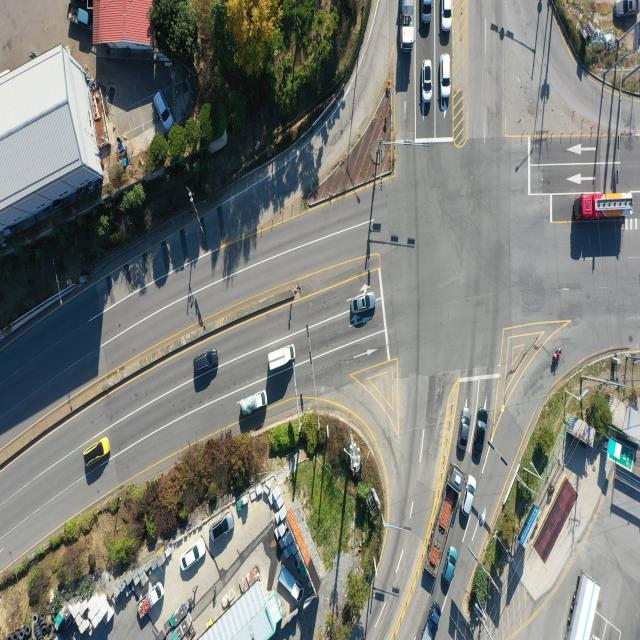car: (84, 436, 112, 470), (180, 535, 205, 569), (155, 90, 175, 130), (192, 349, 220, 376), (474, 408, 488, 462), (461, 476, 477, 518), (210, 515, 233, 542), (458, 408, 471, 453), (441, 54, 453, 100), (445, 546, 459, 583), (352, 292, 376, 313), (422, 62, 433, 105), (615, 0, 639, 18), (421, 0, 433, 33), (442, 0, 453, 31)
medium_truck: (426, 463, 463, 582), (566, 571, 600, 638), (576, 195, 636, 221), (402, 0, 418, 49)
small_truck: (137, 576, 168, 617), (267, 343, 295, 374), (242, 390, 270, 419), (422, 602, 442, 640), (277, 568, 301, 595), (67, 3, 90, 27)
